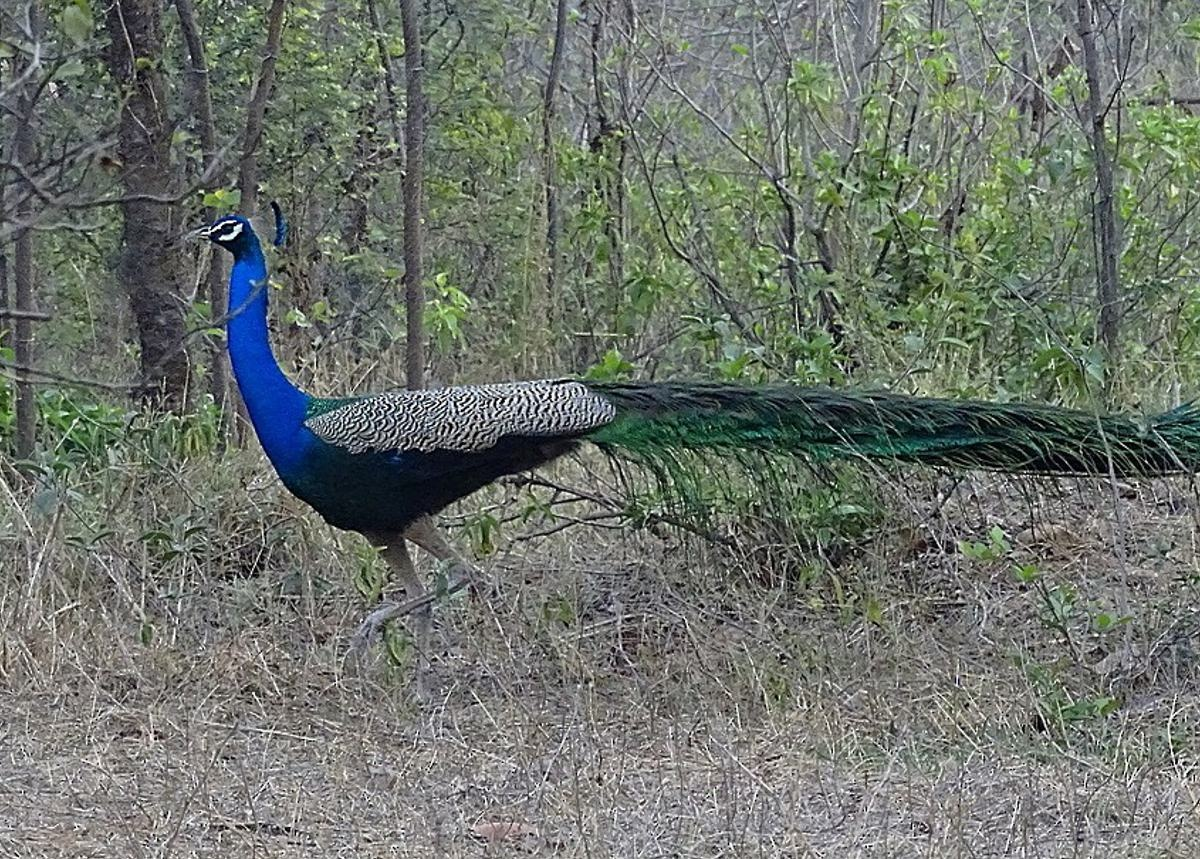peacock: (156, 144, 1056, 660)
